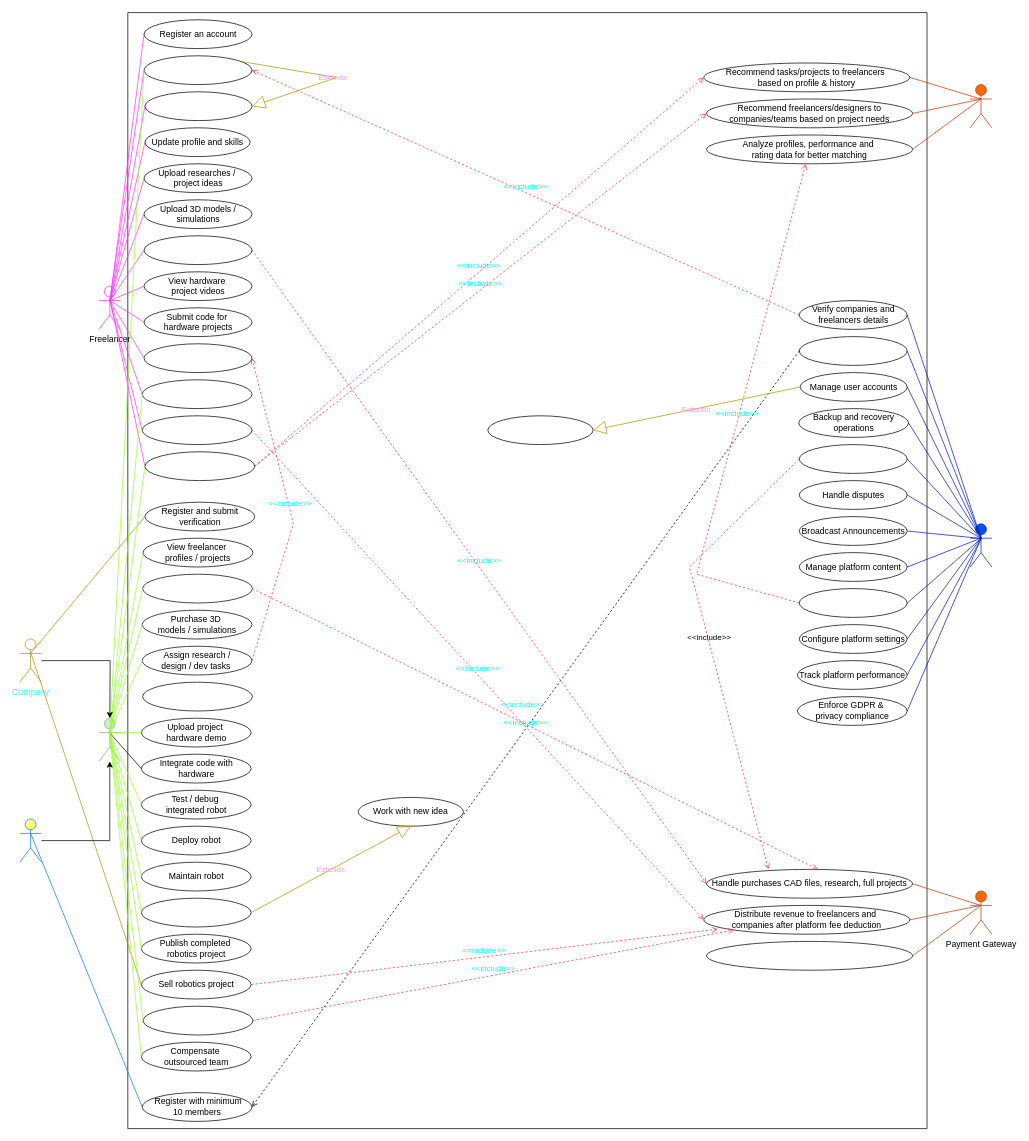
Image size: 1029x1141. Some labels were removed from this diagram. The shapes that lost their labels are listed below. From the top down, each one's centre as x and y in pixels, then its label:
the point at 197,70: Log in to platform
the point at 198,106: Recover Account
the point at 980,106: AI Engine
the point at 197,250: Purchase planning / researches
the point at 197,358: Accept assigned tasks
the point at 852,350: Verify team members count and details
the point at 196,394: Track task progress
the point at 196,430: Earn revenue from completed work
the point at 540,430: Unlock locked a ccounts via OTP
the point at 199,466: View AI based recommendation
the point at 852,458: Monitor transactions
the point at 197,588: Purchase project ideas / research
the point at 852,602: Oversee AI recommendation system
the point at 197,696: Outsource to local teams
the point at 109,739: Organization
the point at 30,840: Team
the point at 196,912: Conduct post maintenance R&D
the point at 809,955: Process refunds for failed outsourcing tasks
the point at 197,1020: Distribute revenue
